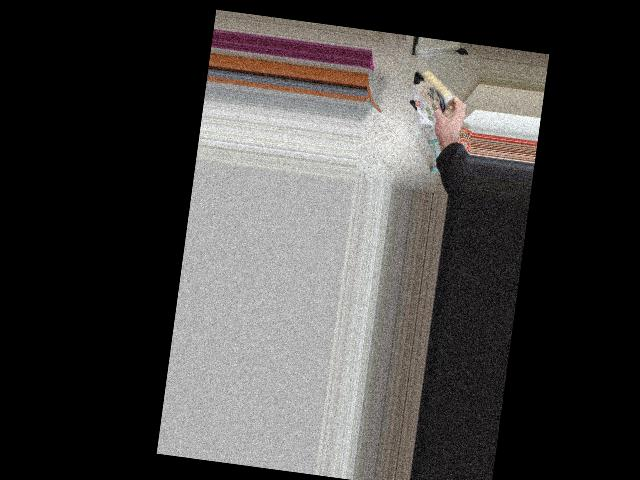cheese: (391, 53, 476, 127)
